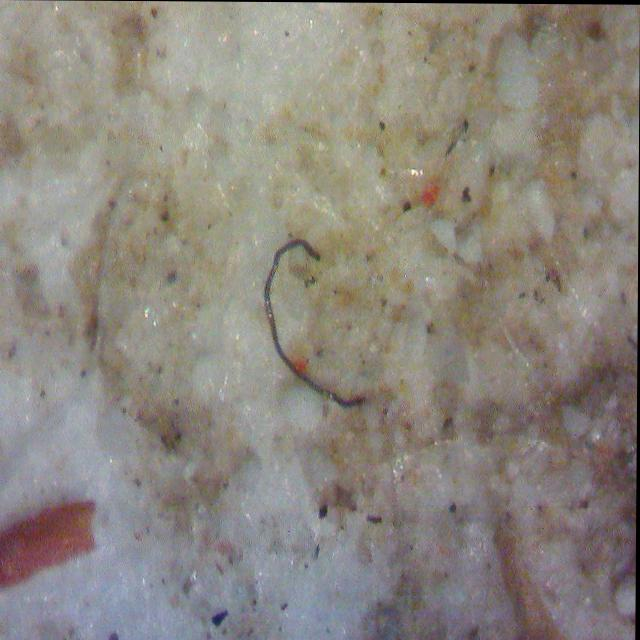microplastic: (246, 234, 367, 425)
